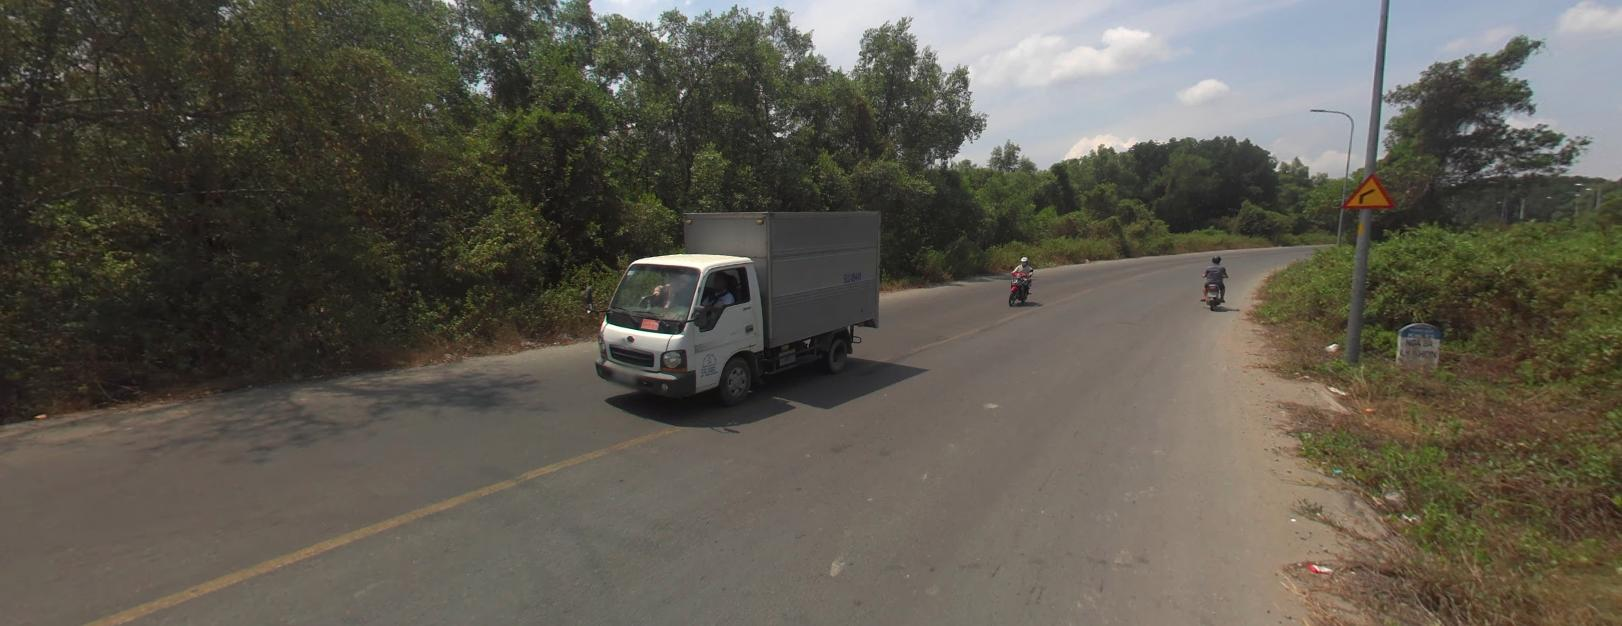Nguy hiem: (1340, 172, 1394, 207)
